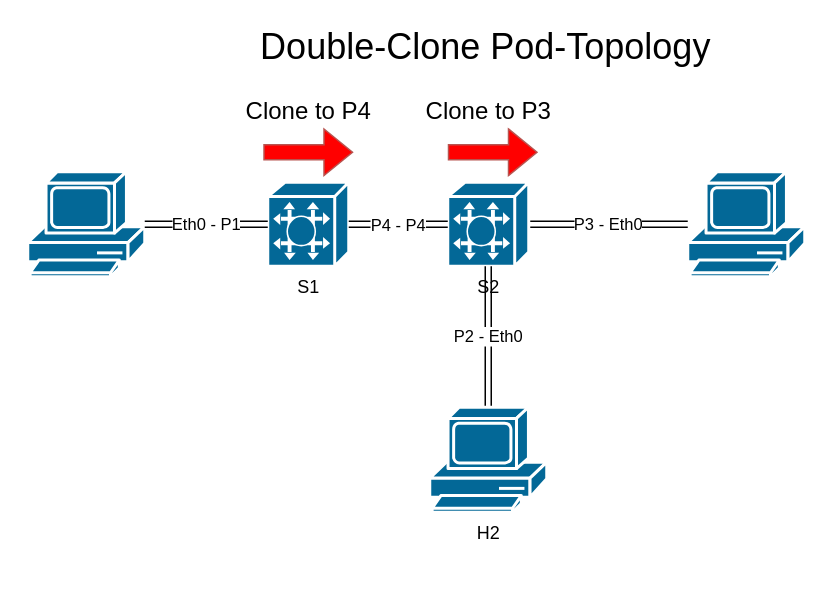
Some shapes in this 831 by 593 pixel diagram are drawn without their labels. Here are the shapes that lost their labels. From the top down, the box of each, then its label:
(26, 170, 146, 278): H1
(686, 170, 806, 278): H3
